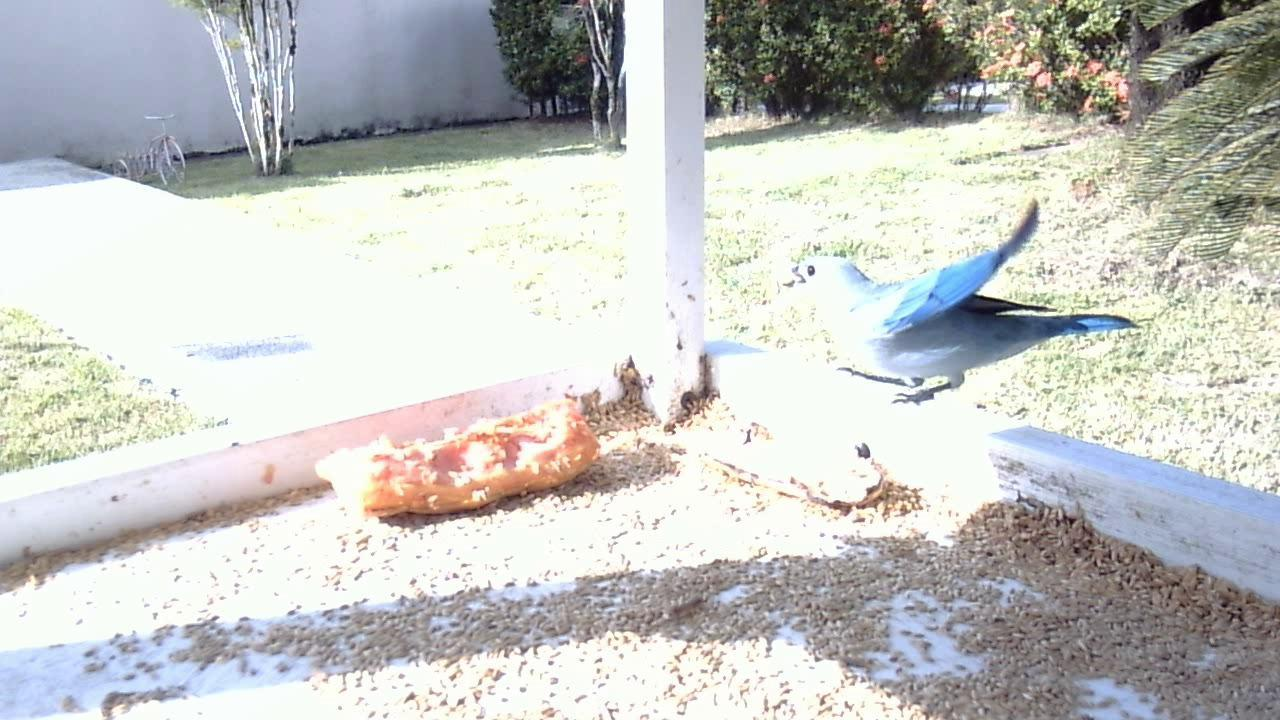sanhaco_da_amazonia: (785, 200, 1141, 426)
